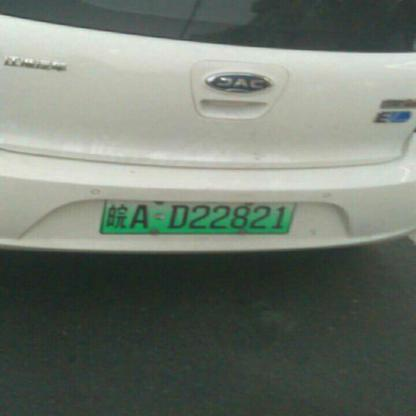lp: (100, 198, 294, 234)
